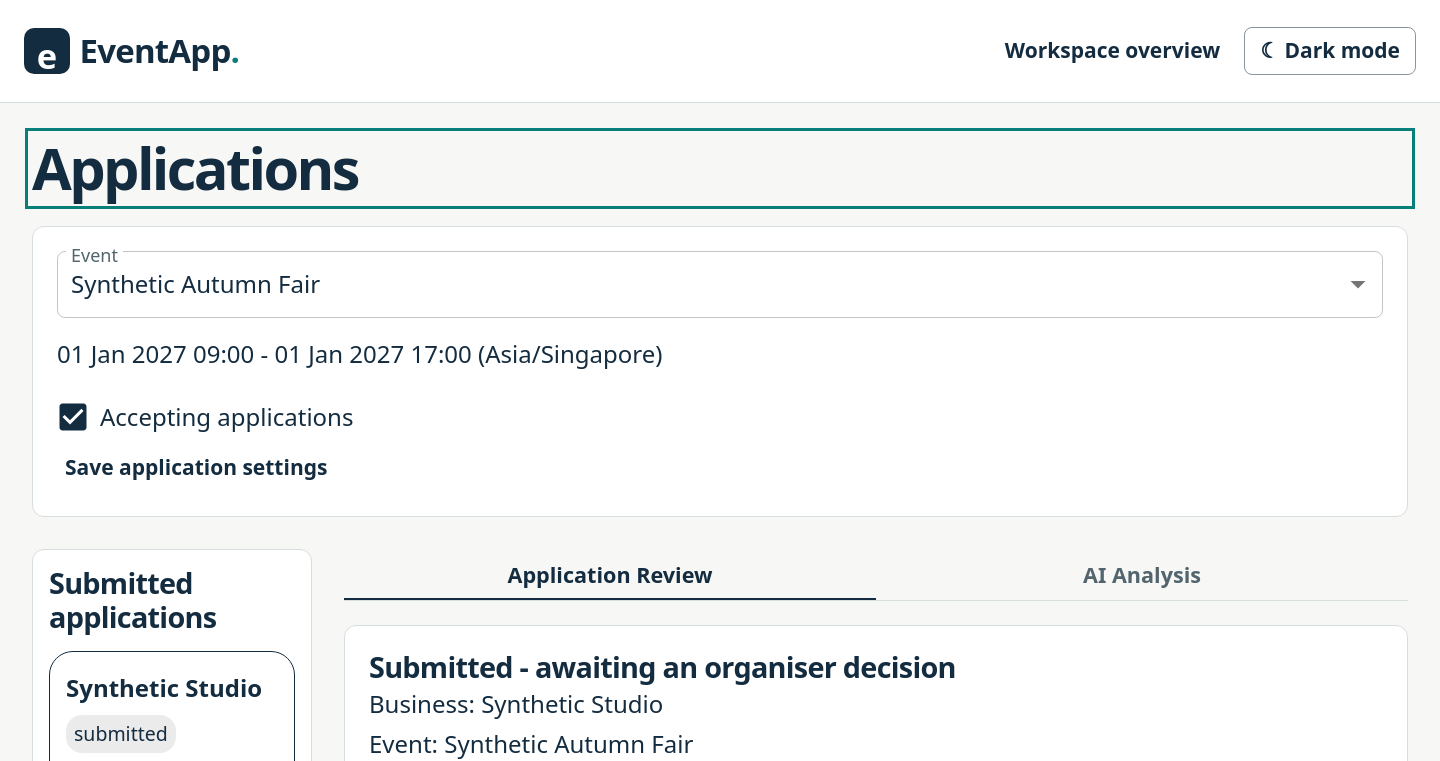
Test: organiser application analysis acceptance › the organiser App route renders analysis for the selected submitted application
This screenshot has width=1440, height=761.
Expected: the heading "Applications" is shown, [32, 128, 358, 207]
Click the tab "AI Analysis" at [1142, 574], box [876, 549, 1408, 600]
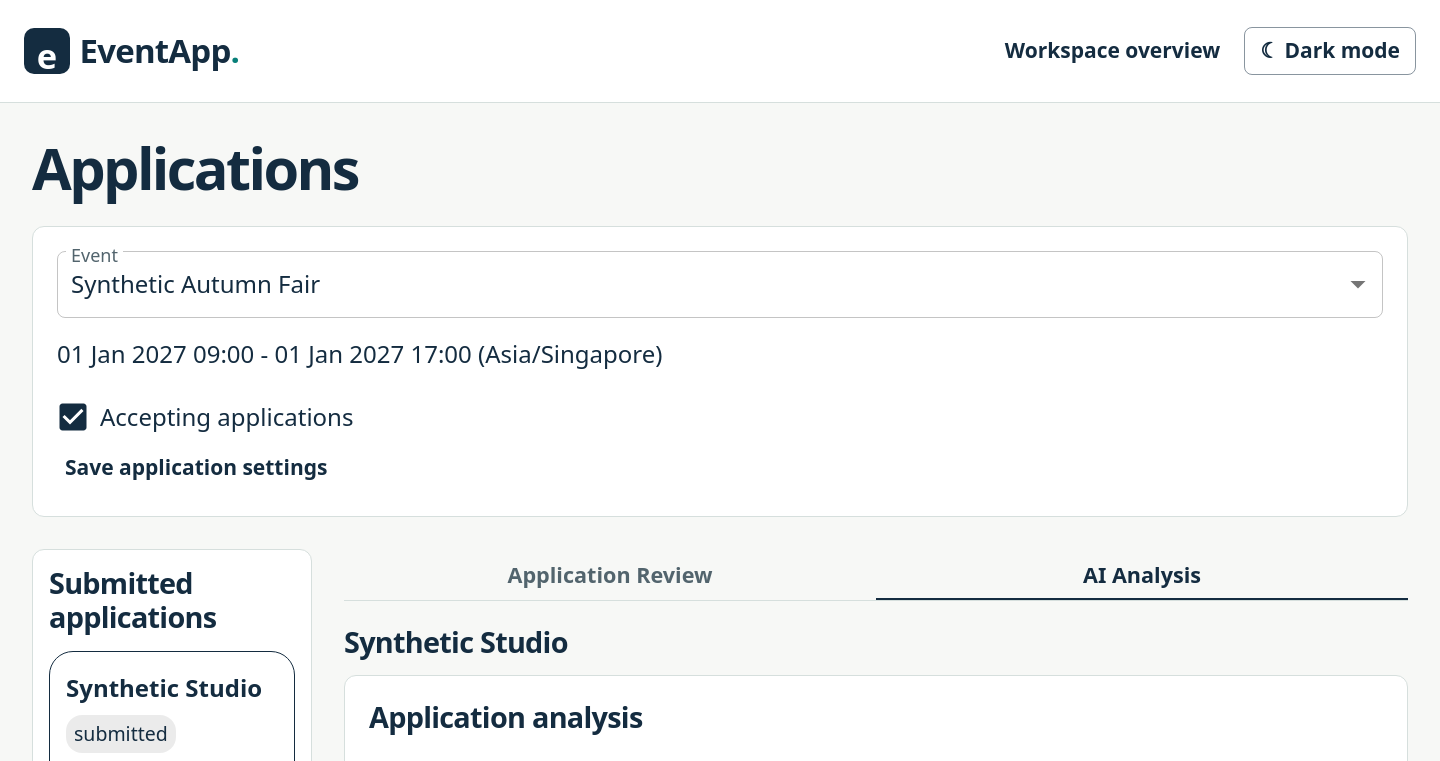
Now the heading "Application analysis" is shown, box [369, 697, 642, 736]
